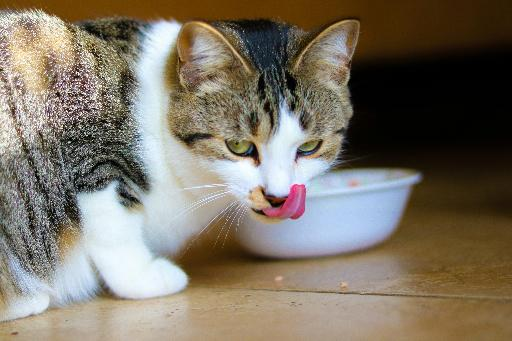cat_eating: (0, 10, 420, 321)
